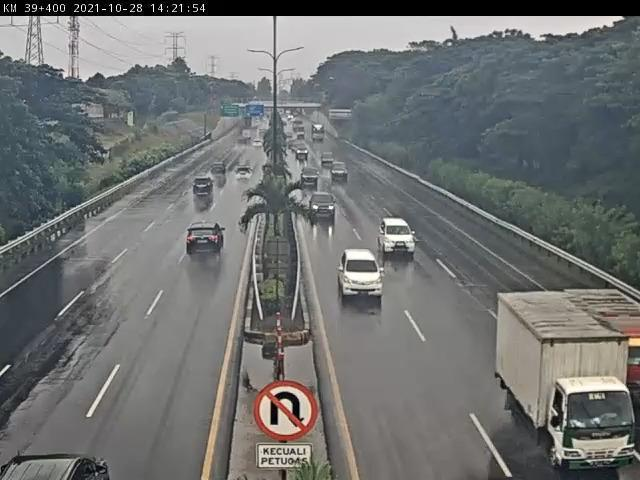car: (338, 251, 385, 303), (377, 216, 418, 256), (186, 221, 226, 258), (309, 193, 339, 225), (192, 176, 215, 200), (233, 165, 257, 185), (301, 167, 322, 187), (330, 161, 350, 181), (209, 160, 229, 179), (295, 144, 312, 163), (321, 150, 337, 168), (250, 139, 266, 152), (235, 134, 249, 148)
truck: (497, 293, 640, 478)
